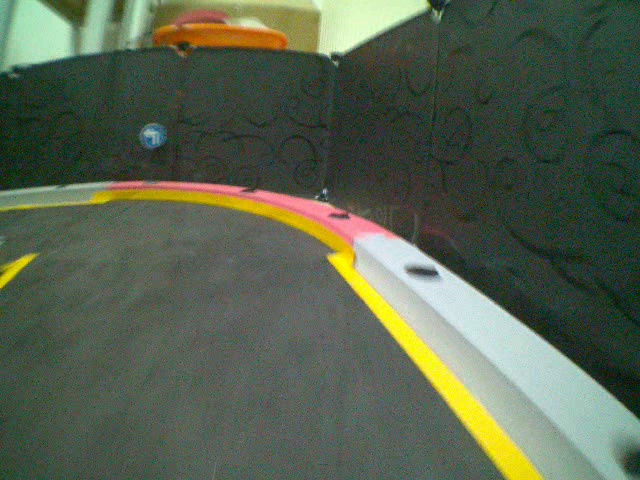turn: (139, 121, 168, 151)
